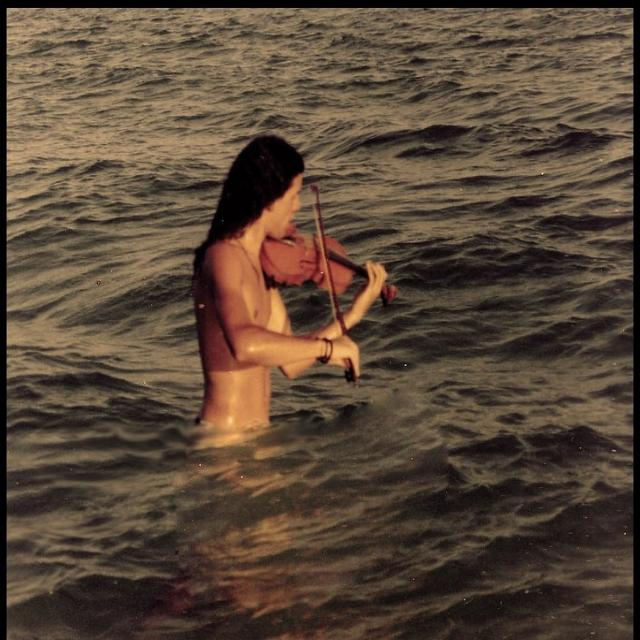violin: (258, 219, 399, 311)
